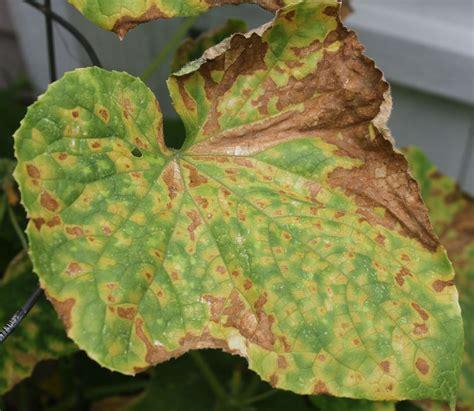black-spot: (380, 253, 441, 383), (23, 154, 93, 249), (130, 245, 182, 306)
